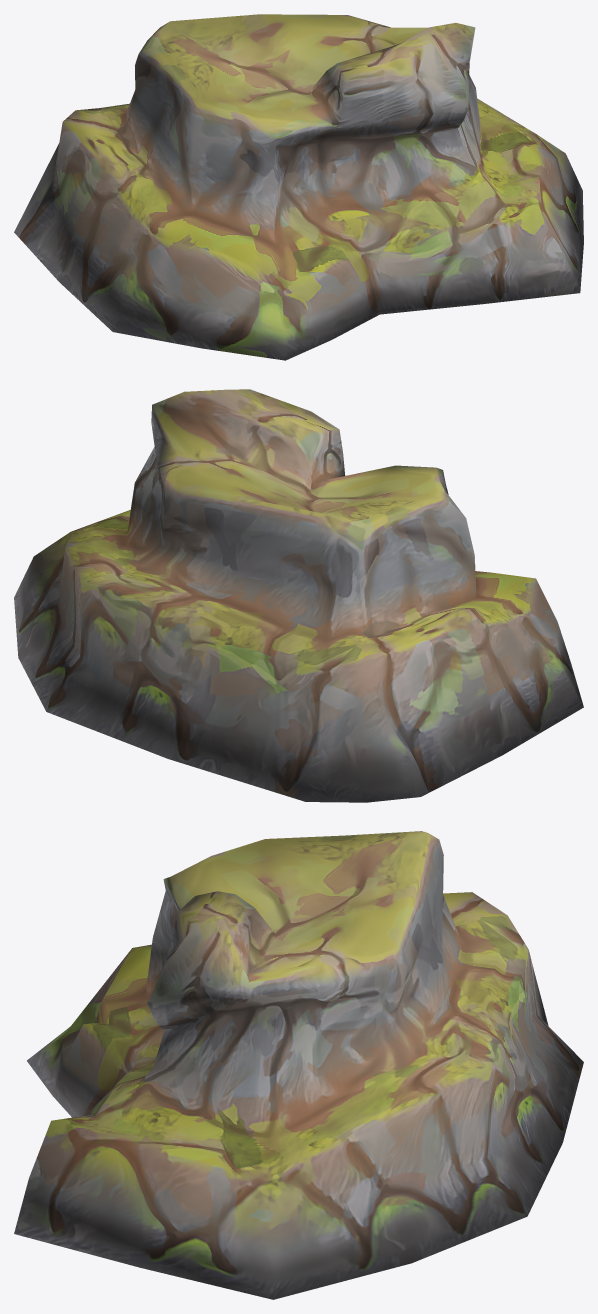
File: rock_02.gltf
3 views of the same model, one above another, from view 1: azimuth 30°, elevation 25°; view 2: azimuth 150°, elevation 25°; view 3: azimuth 270°, elevation 25° (orthographic). The views are drawn at different scales.
Parts seen in each view (by area): view 1: Rock02; view 2: Rock02; view 3: Rock02.
Part boxes in pixels (bbox=[...]): Rock02: bbox=[14, 14, 583, 360]; Rock02: bbox=[14, 389, 583, 802]; Rock02: bbox=[14, 831, 583, 1299].
Size of the model in its own units: 4.99 by 2.13 by 4.02.
1 material, 1 textured.
